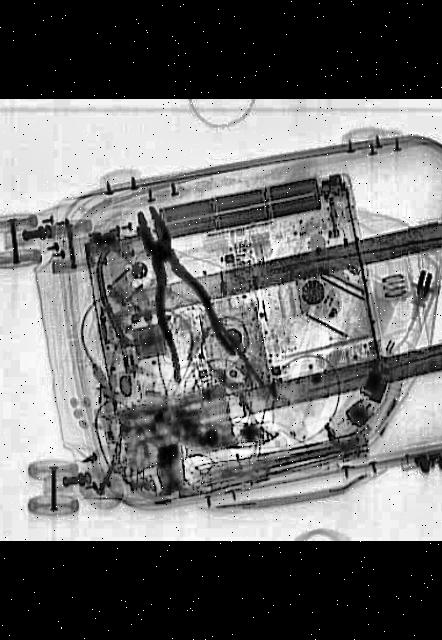Pliers: (106, 198, 240, 384)
